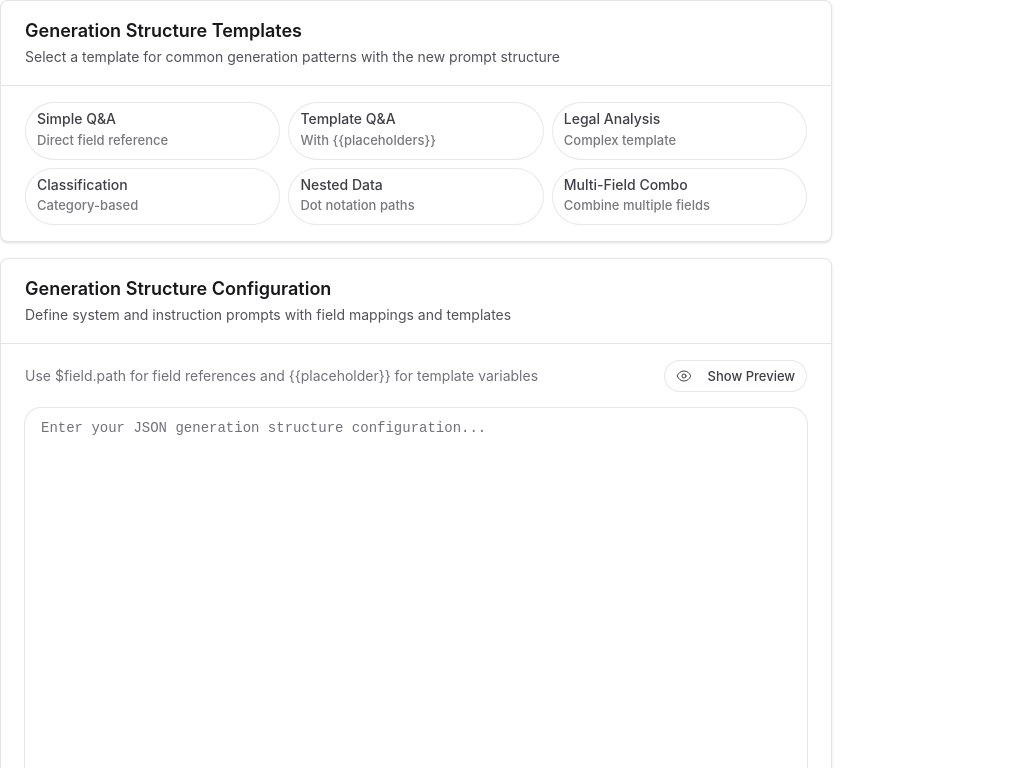
Scenario: GenerationStructureEditor › Preview Functionality › should toggle preview on button click
This screenshot has width=1024, height=768.
What coordinates should you click on to do the following:
click the button "Show Preview"
I would click on:
 (735, 376)
Its box is [664,360,807,392].
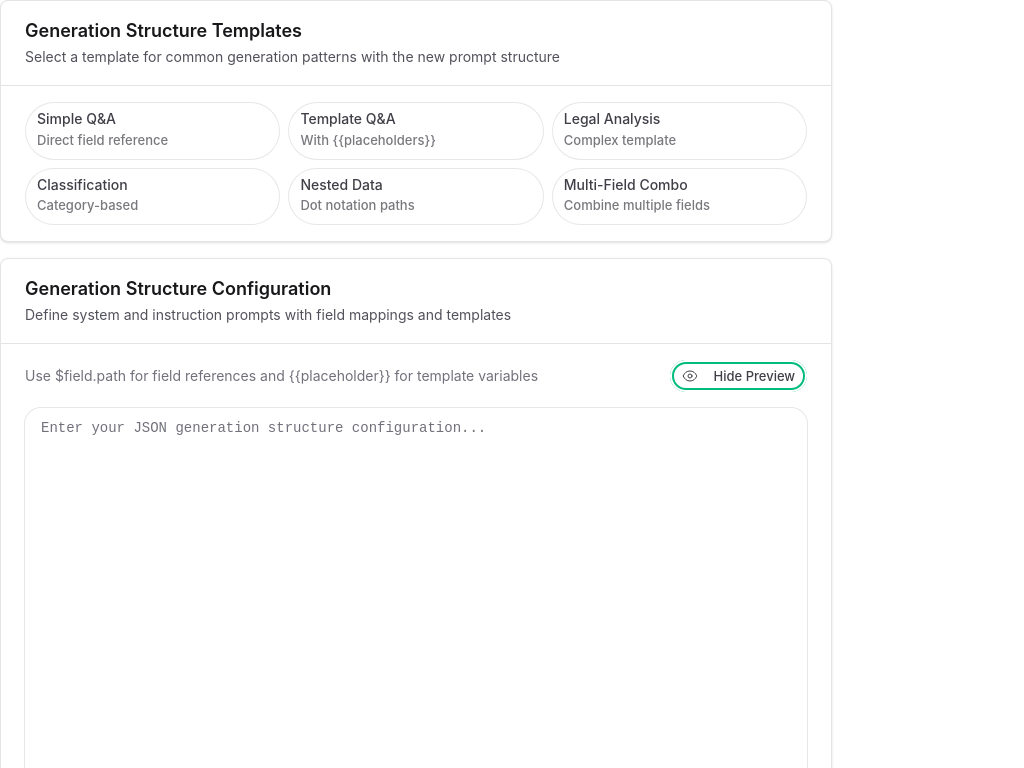
Expected: the button "Hide Preview" is shown, [670,360,807,392]
